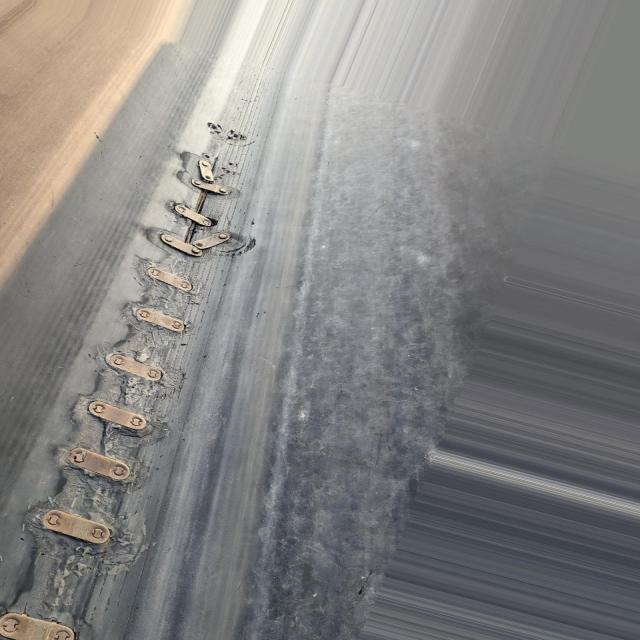patch work: (0, 120, 254, 640)
